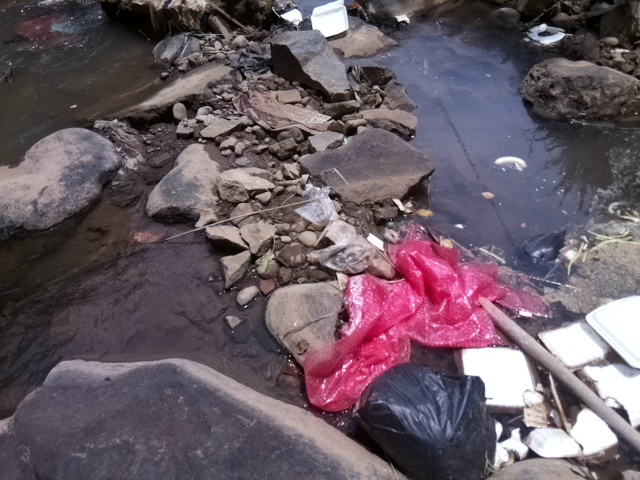Sampah_Plastik: (298, 232, 544, 416), (353, 367, 500, 480), (310, 239, 375, 274), (292, 182, 340, 229)
Sampah_Styrofoam: (458, 342, 542, 409), (530, 403, 617, 461), (585, 292, 640, 370), (533, 323, 609, 370), (307, 1, 352, 40)
